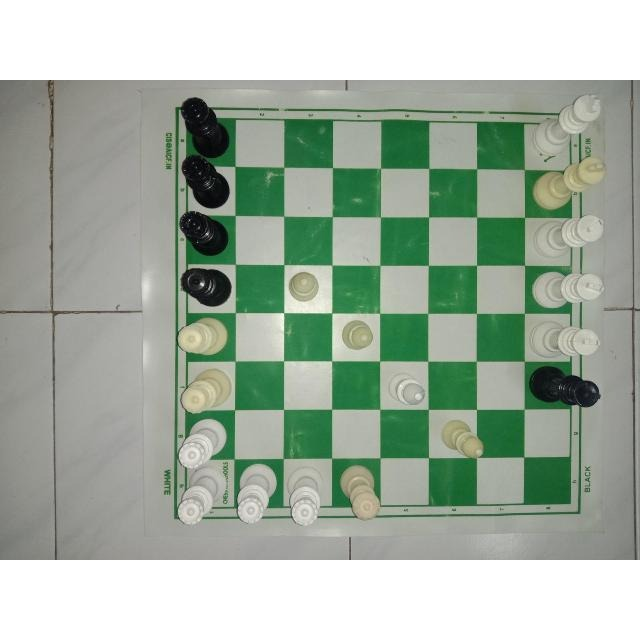black-king: (523, 361, 604, 410)
black-queen: (176, 97, 236, 159), (176, 154, 234, 211), (174, 209, 232, 258), (177, 264, 234, 310)
white-bishop: (438, 414, 488, 462), (385, 367, 429, 410), (286, 270, 323, 304), (338, 317, 375, 351)
white-king: (527, 212, 605, 270), (530, 153, 610, 209), (531, 91, 603, 152), (526, 268, 609, 314), (526, 317, 601, 363)
white-queen: (173, 464, 233, 527), (175, 416, 233, 471), (235, 463, 283, 527), (335, 462, 384, 523), (178, 365, 234, 417), (284, 461, 326, 528), (174, 315, 229, 358)
